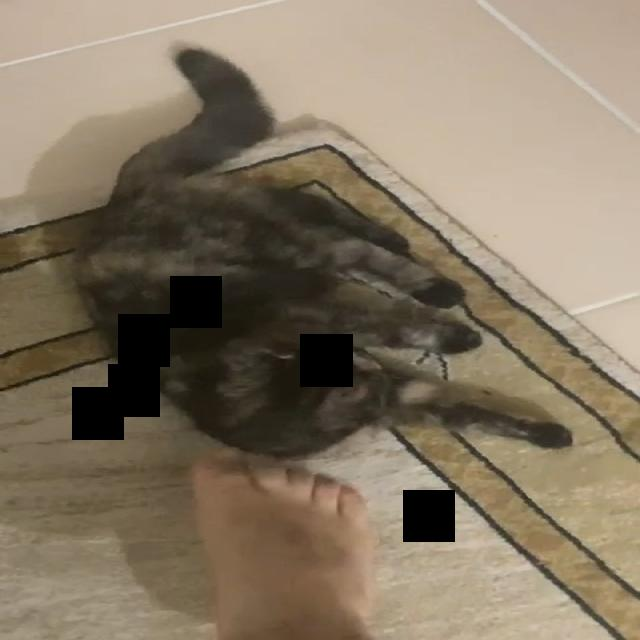authorized: (65, 40, 575, 461)
